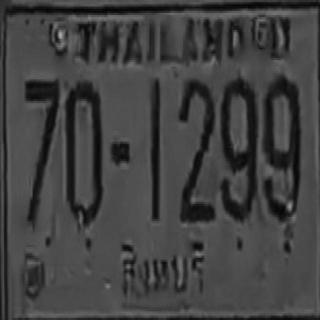N00: (65, 80, 103, 226)
N01: (148, 77, 161, 221)
N02: (178, 79, 215, 221)
N07: (24, 78, 60, 227)
N09: (262, 74, 300, 222), (220, 76, 256, 220)
P62: (113, 236, 211, 298)
